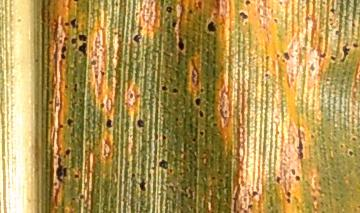tarspot: (55, 153, 70, 183), (295, 126, 305, 161), (340, 41, 350, 65), (60, 35, 69, 61), (133, 25, 144, 43), (206, 20, 218, 33), (77, 42, 88, 56), (238, 11, 249, 24), (158, 158, 169, 170), (138, 178, 147, 192), (177, 36, 185, 51), (70, 17, 79, 30), (136, 118, 146, 129), (105, 117, 113, 130), (32, 56, 42, 66), (76, 33, 88, 41), (308, 61, 316, 73), (186, 187, 194, 199), (196, 109, 205, 119), (249, 189, 259, 198), (88, 58, 98, 67), (282, 50, 290, 61), (69, 37, 78, 46), (165, 5, 174, 14), (274, 174, 282, 184), (66, 117, 74, 126), (350, 41, 359, 49), (328, 54, 337, 62), (194, 97, 201, 107), (160, 84, 168, 92), (198, 129, 206, 137), (318, 51, 326, 59), (173, 116, 181, 124), (198, 86, 206, 94), (170, 87, 179, 94), (63, 20, 70, 29), (170, 19, 177, 28), (93, 72, 100, 81), (57, 123, 66, 130), (272, 16, 279, 25), (290, 167, 296, 177), (72, 82, 78, 92), (64, 148, 71, 156), (347, 149, 354, 157), (329, 7, 336, 15), (99, 101, 106, 109), (98, 69, 105, 77), (285, 190, 292, 198), (78, 193, 86, 200), (264, 53, 270, 62), (263, 72, 270, 79), (350, 21, 357, 28), (284, 197, 291, 204), (73, 172, 79, 180), (130, 171, 136, 179), (294, 174, 300, 182), (211, 122, 219, 128), (128, 91, 134, 99), (47, 98, 53, 106), (63, 82, 69, 90), (190, 137, 196, 144), (350, 136, 357, 142), (209, 175, 216, 181), (275, 51, 280, 59), (218, 177, 224, 183), (161, 134, 166, 141), (244, 1, 250, 6), (278, 1, 283, 6), (246, 203, 250, 209), (72, 1, 79, 3)
